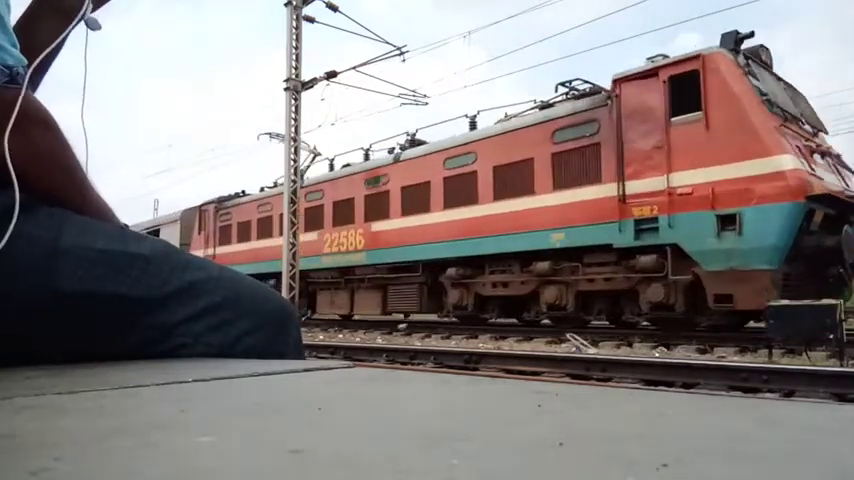Boogie: (318, 230, 376, 257)
